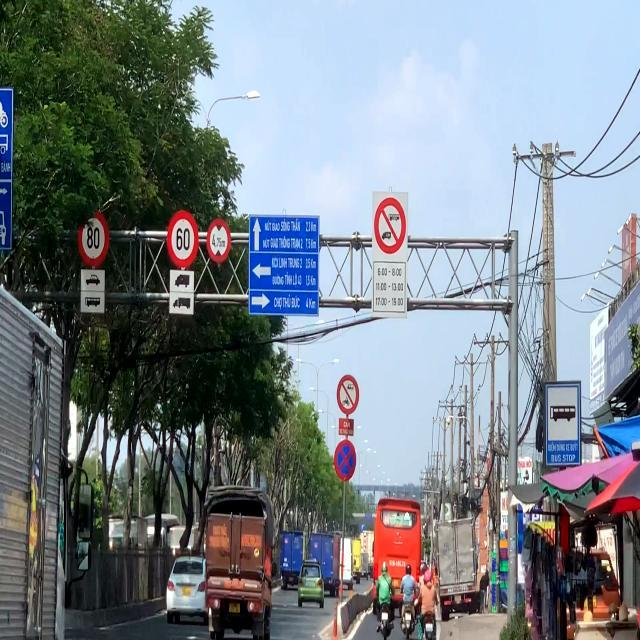Cam dung xe va do xe: (334, 436, 359, 482)
Han che chieu cao: (207, 218, 232, 264)
Toc do toi da cho phep: (168, 210, 198, 268), (78, 213, 108, 265)
